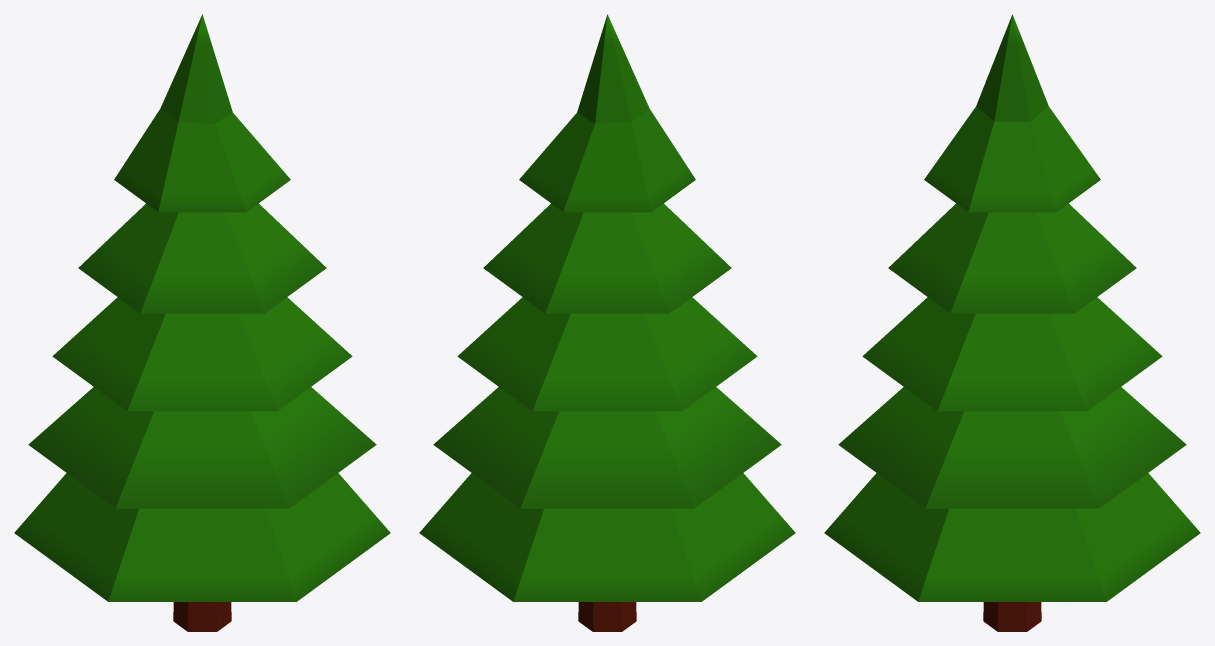
Rendered from PineTree.fbx.
3 views of the same model, side by side, from view 1: azimuth 30°, elevation 25°; view 2: azimuth 150°, elevation 25°; view 3: azimuth 270°, elevation 25° (orthographic).
Visible parts, largest first — view 1: PineTree; view 2: PineTree; view 3: PineTree.
Boxes of the visible parts, box(x1,y1,x2,y2) form: PineTree: box(14, 14, 390, 631); PineTree: box(419, 14, 795, 631); PineTree: box(824, 14, 1200, 631).
Bounding box in the file's own units: 223 × 459 × 258.
